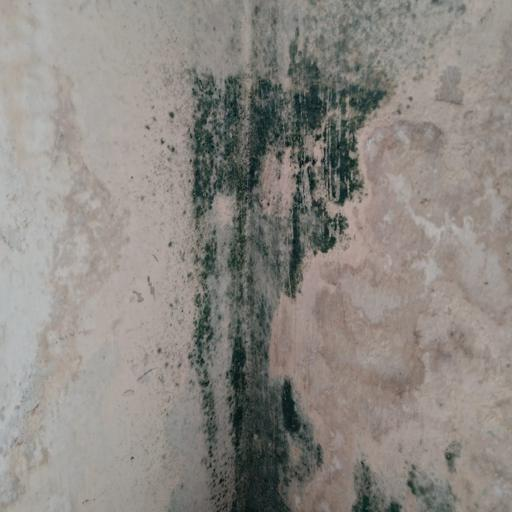algae: (141, 11, 501, 512)
